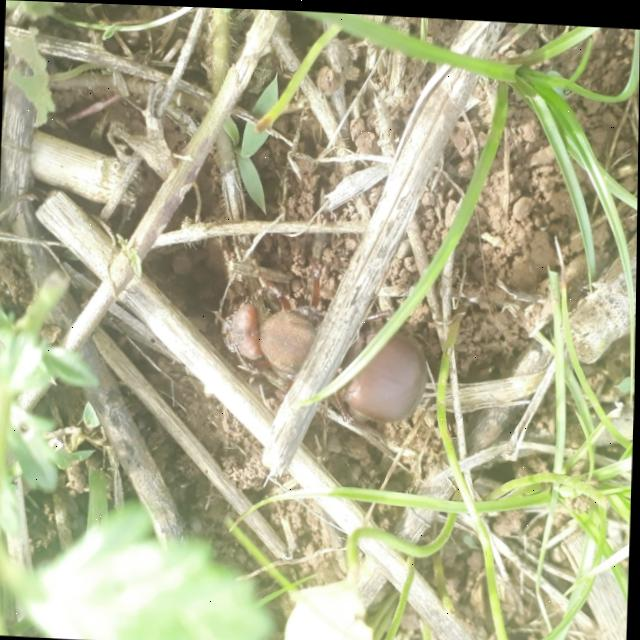Alive-Female-Dealate: (219, 248, 432, 422)
